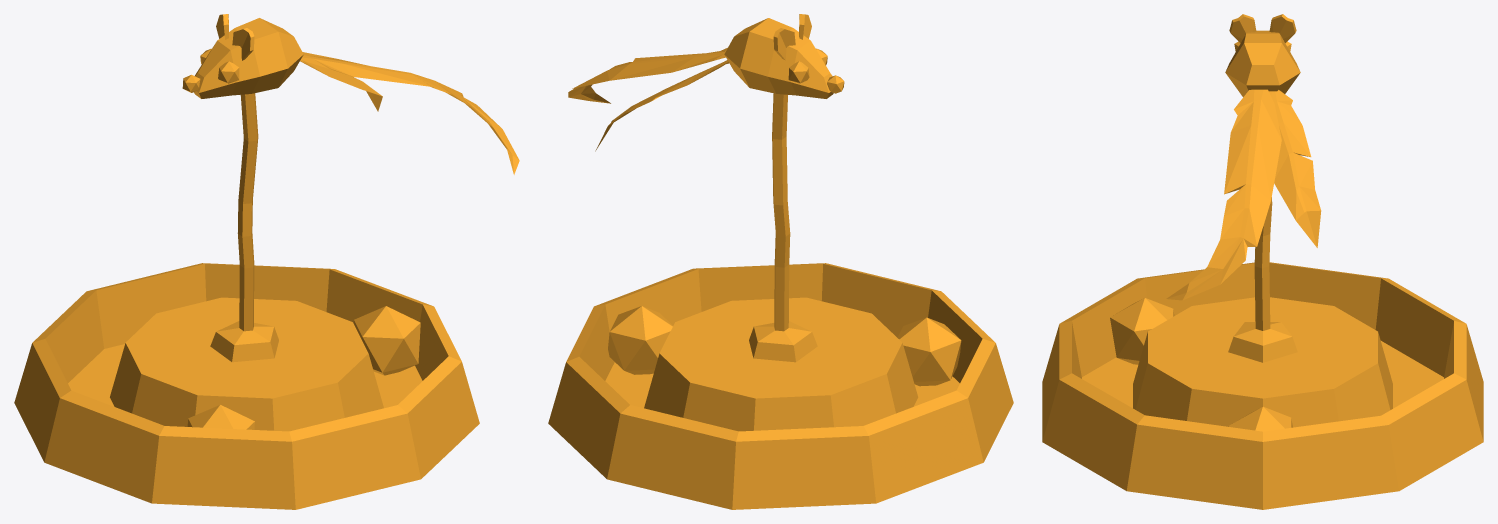
File: SM_Toy_Mouse_C.fbx
3 views of the same model, side by side, from view 1: azimuth 30°, elevation 25°; view 2: azimuth 150°, elevation 25°; view 3: azimuth 270°, elevation 25° (orthographic).
Parts seen in each view (by area): view 1: SM_Toy_Mouse_C; view 2: SM_Toy_Mouse_C; view 3: SM_Toy_Mouse_C.
Part boxes in pixels (x1,y1,x2,y2): SM_Toy_Mouse_C: (14,14,519,509); SM_Toy_Mouse_C: (548,14,1013,509); SM_Toy_Mouse_C: (1042,14,1483,509).
Bounding box in the file's own units: 0.2926 × 0.2527 × 0.2583.
